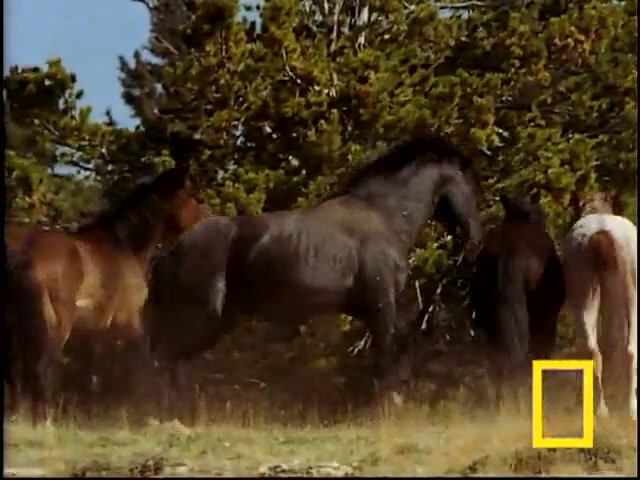horse: (143, 130, 491, 396)
